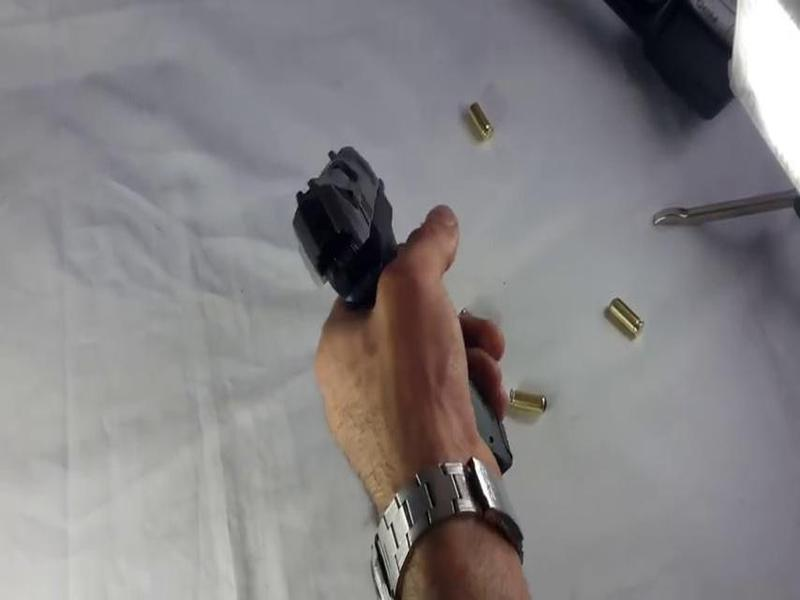Pistola: (253, 149, 530, 499)
